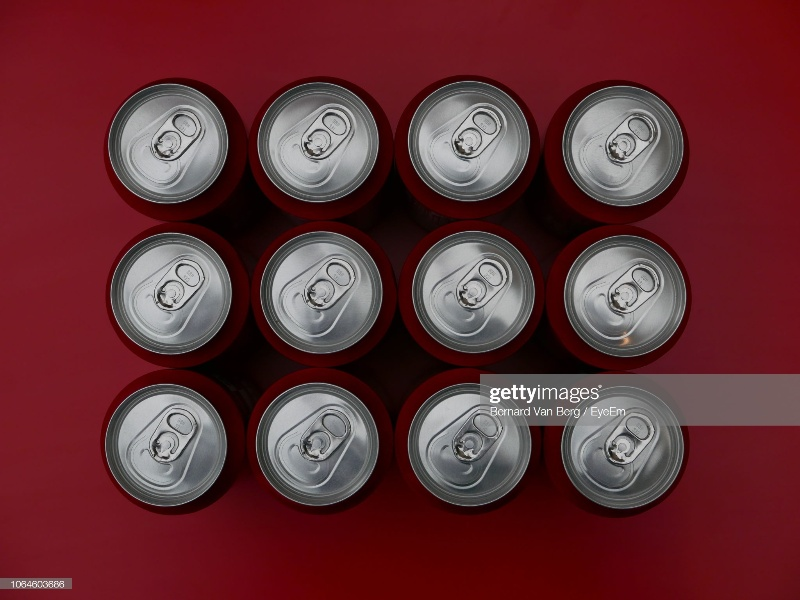coke-can: (543, 374, 705, 525), (93, 371, 243, 520), (390, 364, 539, 511), (250, 74, 394, 226), (544, 228, 704, 364), (100, 224, 249, 369), (105, 73, 247, 222), (253, 364, 390, 514), (543, 77, 695, 212), (400, 215, 540, 357), (252, 230, 400, 363), (399, 75, 534, 212)
